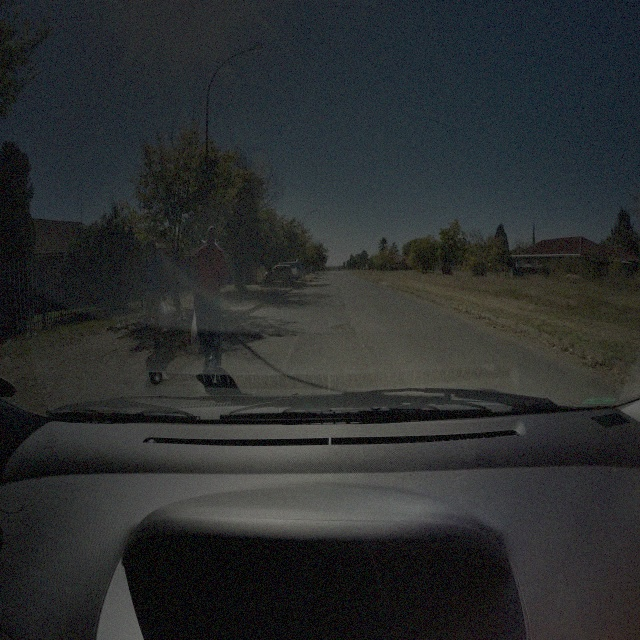pothole: (331, 321, 356, 335)
